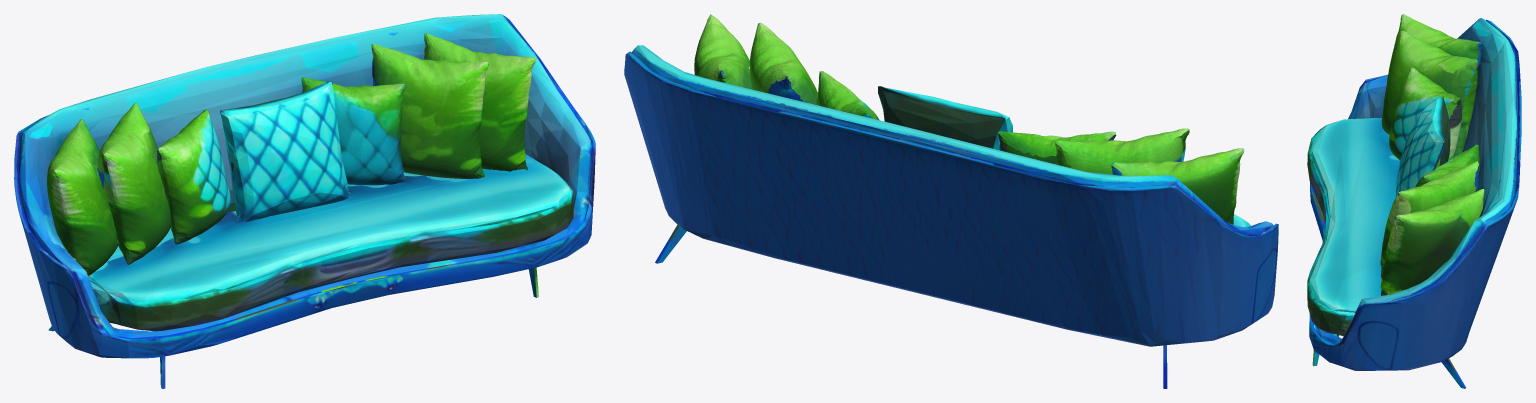
The model's file is edited_mesh.glb.
The picture shows the model from 3 angles, left to right: view 1: azimuth 30°, elevation 25°; view 2: azimuth 150°, elevation 25°; view 3: azimuth 270°, elevation 25°; orthographic projection. The views are drawn at different scales.
Visible parts, largest first — view 1: solid_001_wire; view 2: solid_001_wire; view 3: solid_001_wire.
Boxes of the visible parts, box(x1,y1,x2,y2) form: solid_001_wire: box(14, 14, 595, 388); solid_001_wire: box(624, 14, 1278, 388); solid_001_wire: box(1307, 14, 1521, 388).
Size of the model in its own units: 2 by 0.7102 by 0.7886.
1 material, 1 textured.
